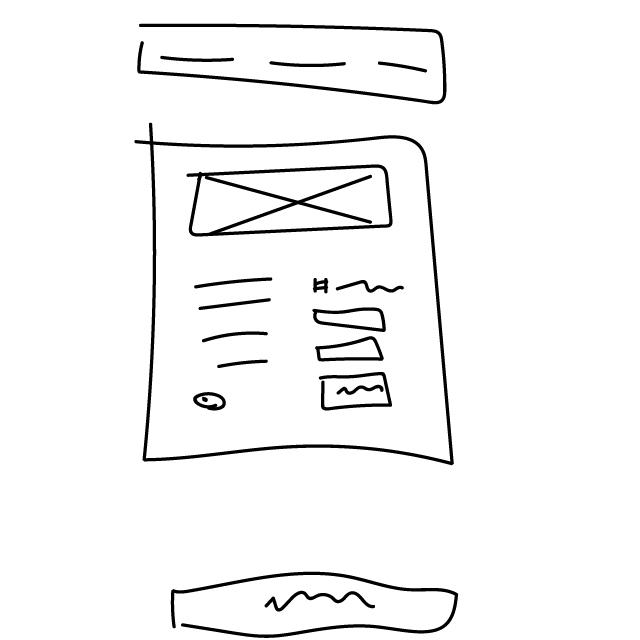button: (317, 371, 404, 417)
checkbox: (191, 390, 232, 413)
container: (122, 119, 474, 486)
footer: (166, 571, 463, 640)
frame: (184, 161, 402, 240)
heading: (308, 272, 411, 302)
input: (311, 304, 390, 336), (312, 336, 395, 365)
nav: (135, 18, 450, 109)
text: (189, 274, 282, 374)
